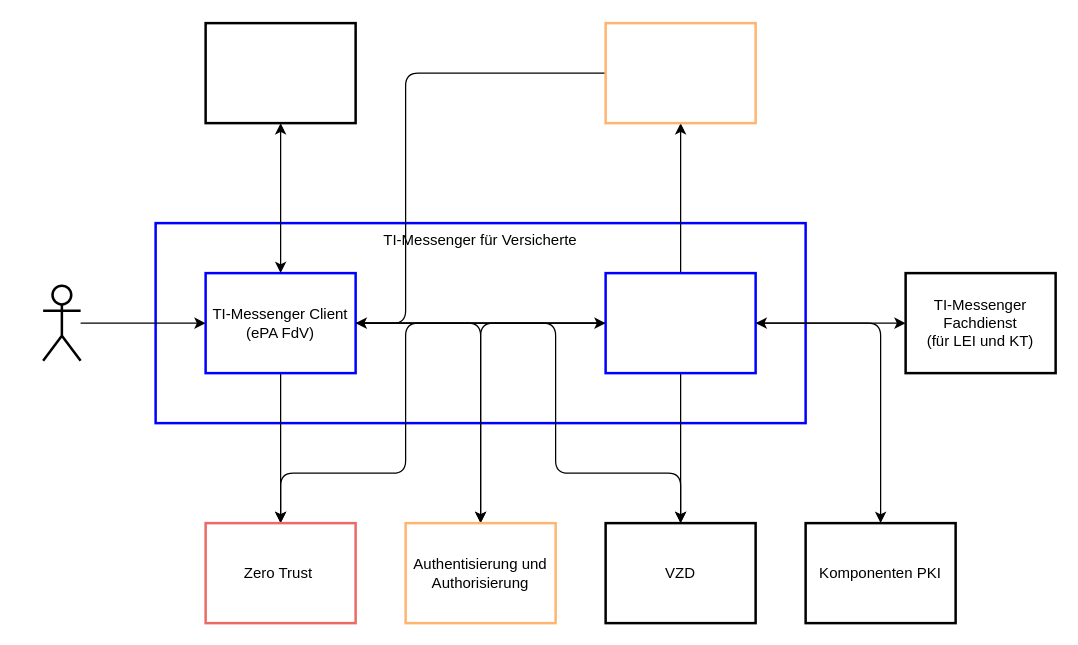
Image size: 1078x645. Some labels were removed from this diagram. The shapes that lost their labels are listed below. From the top down, each one's centre as x and y in pixels, then its label:
At point 280,72: "TI-Messenger Client (LE)".
At point 680,72: "Push Notification Service".
At point 61,322: "Versicherter".
At point 680,322: "TI-Messenger Fachdienst (für Versicherte)".
